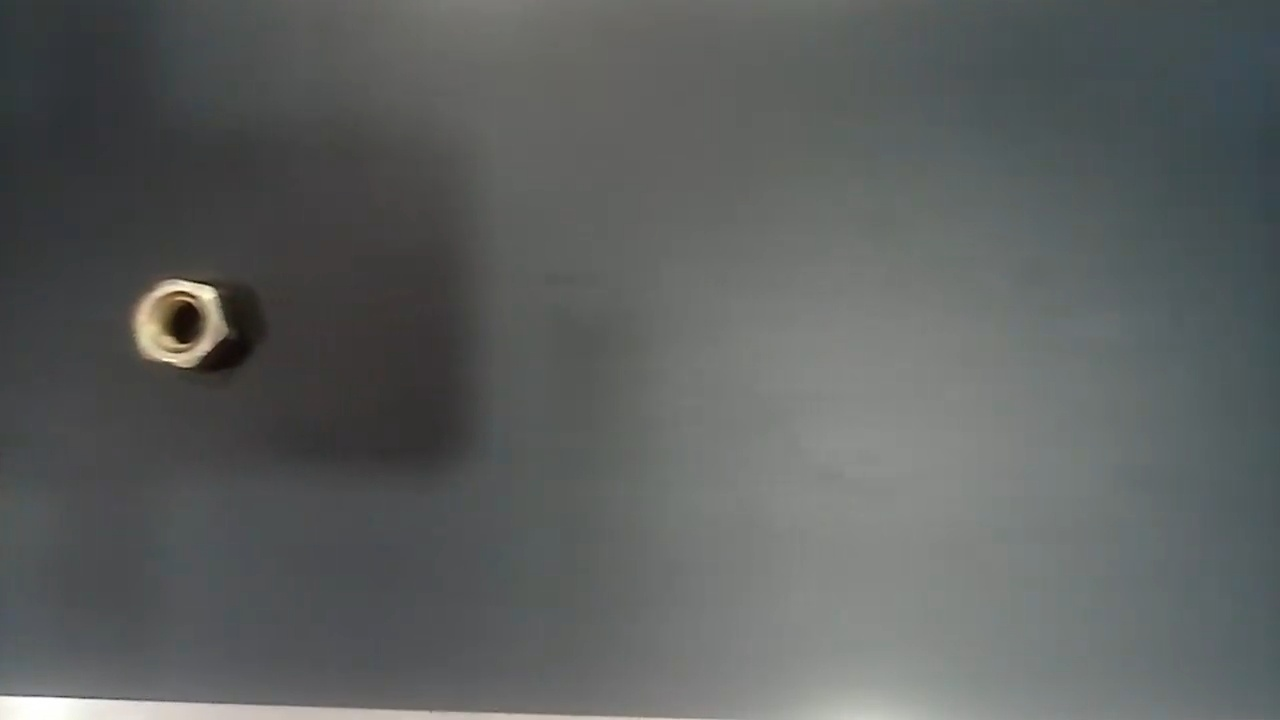Bolt: (128, 272, 236, 372)
